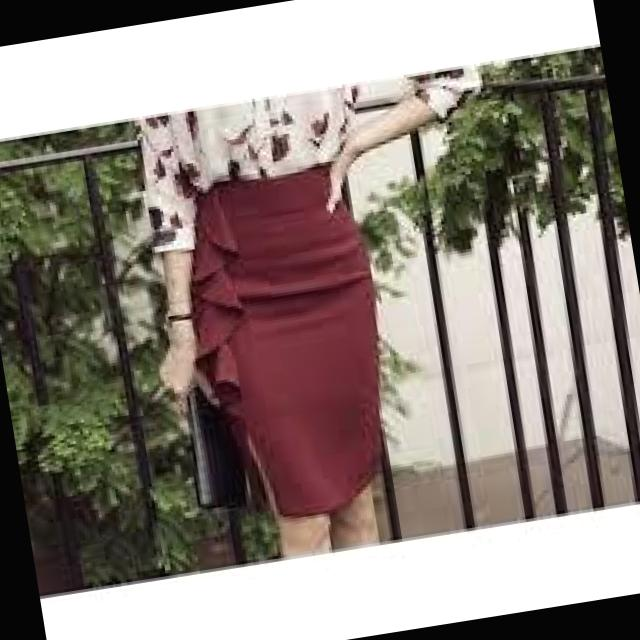skirt: (160, 144, 443, 570)
